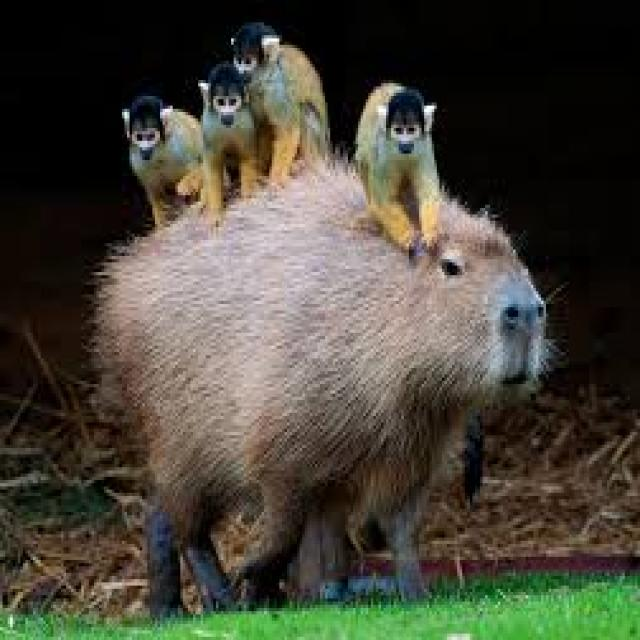capy: (96, 156, 547, 620)
